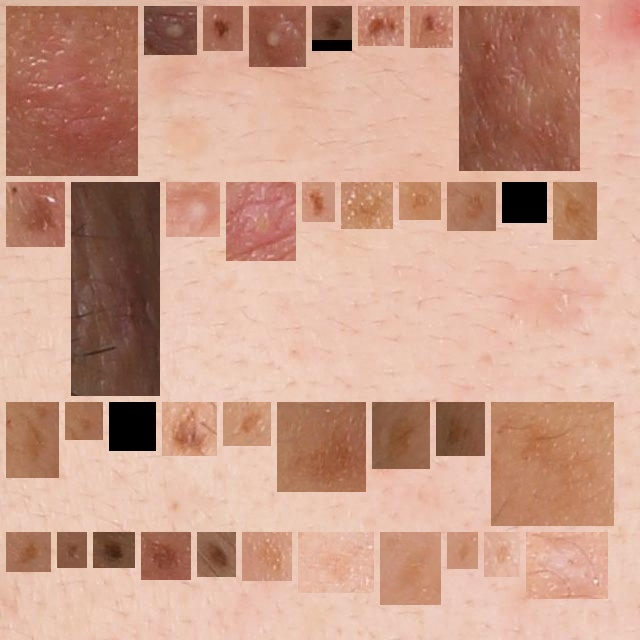hypertrophic_scar: (14, 14, 130, 168), (467, 14, 572, 163), (79, 190, 152, 388), (534, 540, 600, 591)
melasma: (499, 410, 606, 518), (285, 410, 358, 484), (306, 540, 366, 585), (388, 540, 433, 597), (14, 410, 51, 470), (380, 410, 422, 461), (170, 410, 209, 448), (444, 410, 477, 448), (561, 190, 589, 232), (250, 540, 284, 573), (349, 190, 385, 221), (455, 190, 488, 223), (117, 410, 148, 443), (231, 410, 263, 438), (510, 190, 539, 215), (14, 540, 43, 564), (492, 540, 512, 569), (407, 190, 433, 212), (73, 410, 95, 432), (455, 540, 470, 561), (65, 540, 79, 560)
nevus: (14, 190, 57, 239), (149, 540, 183, 572), (366, 14, 396, 38), (418, 14, 445, 40), (211, 14, 235, 43), (320, 14, 344, 43), (205, 540, 228, 569), (101, 540, 127, 560), (310, 190, 327, 214)
pustule: (234, 190, 288, 253), (257, 14, 298, 59), (174, 190, 212, 229), (152, 14, 189, 47)
